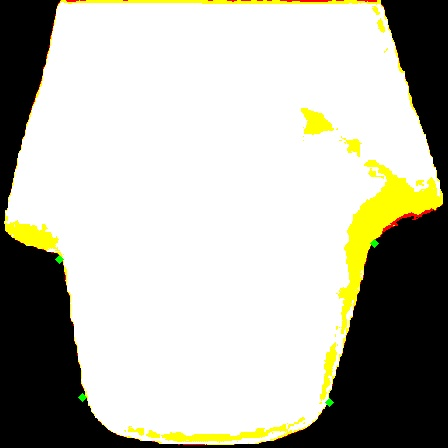coin_1: (59, 259, 79, 279)
coin_2: (82, 397, 102, 417)
coin_3: (374, 243, 394, 263)
coin_4: (329, 402, 349, 422)
